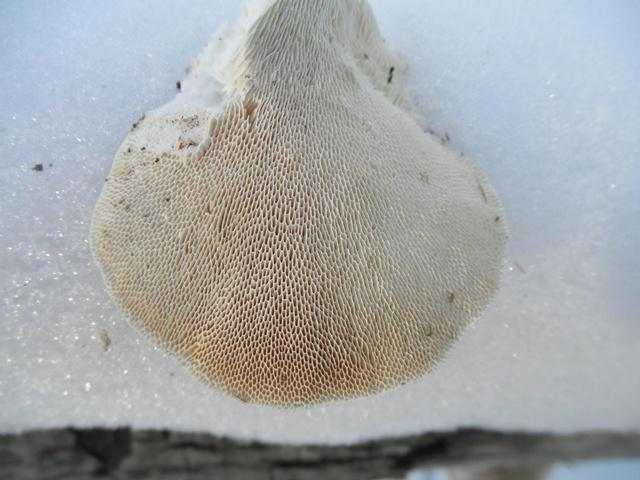Non-edible Mushroom: (87, 0, 510, 409)
